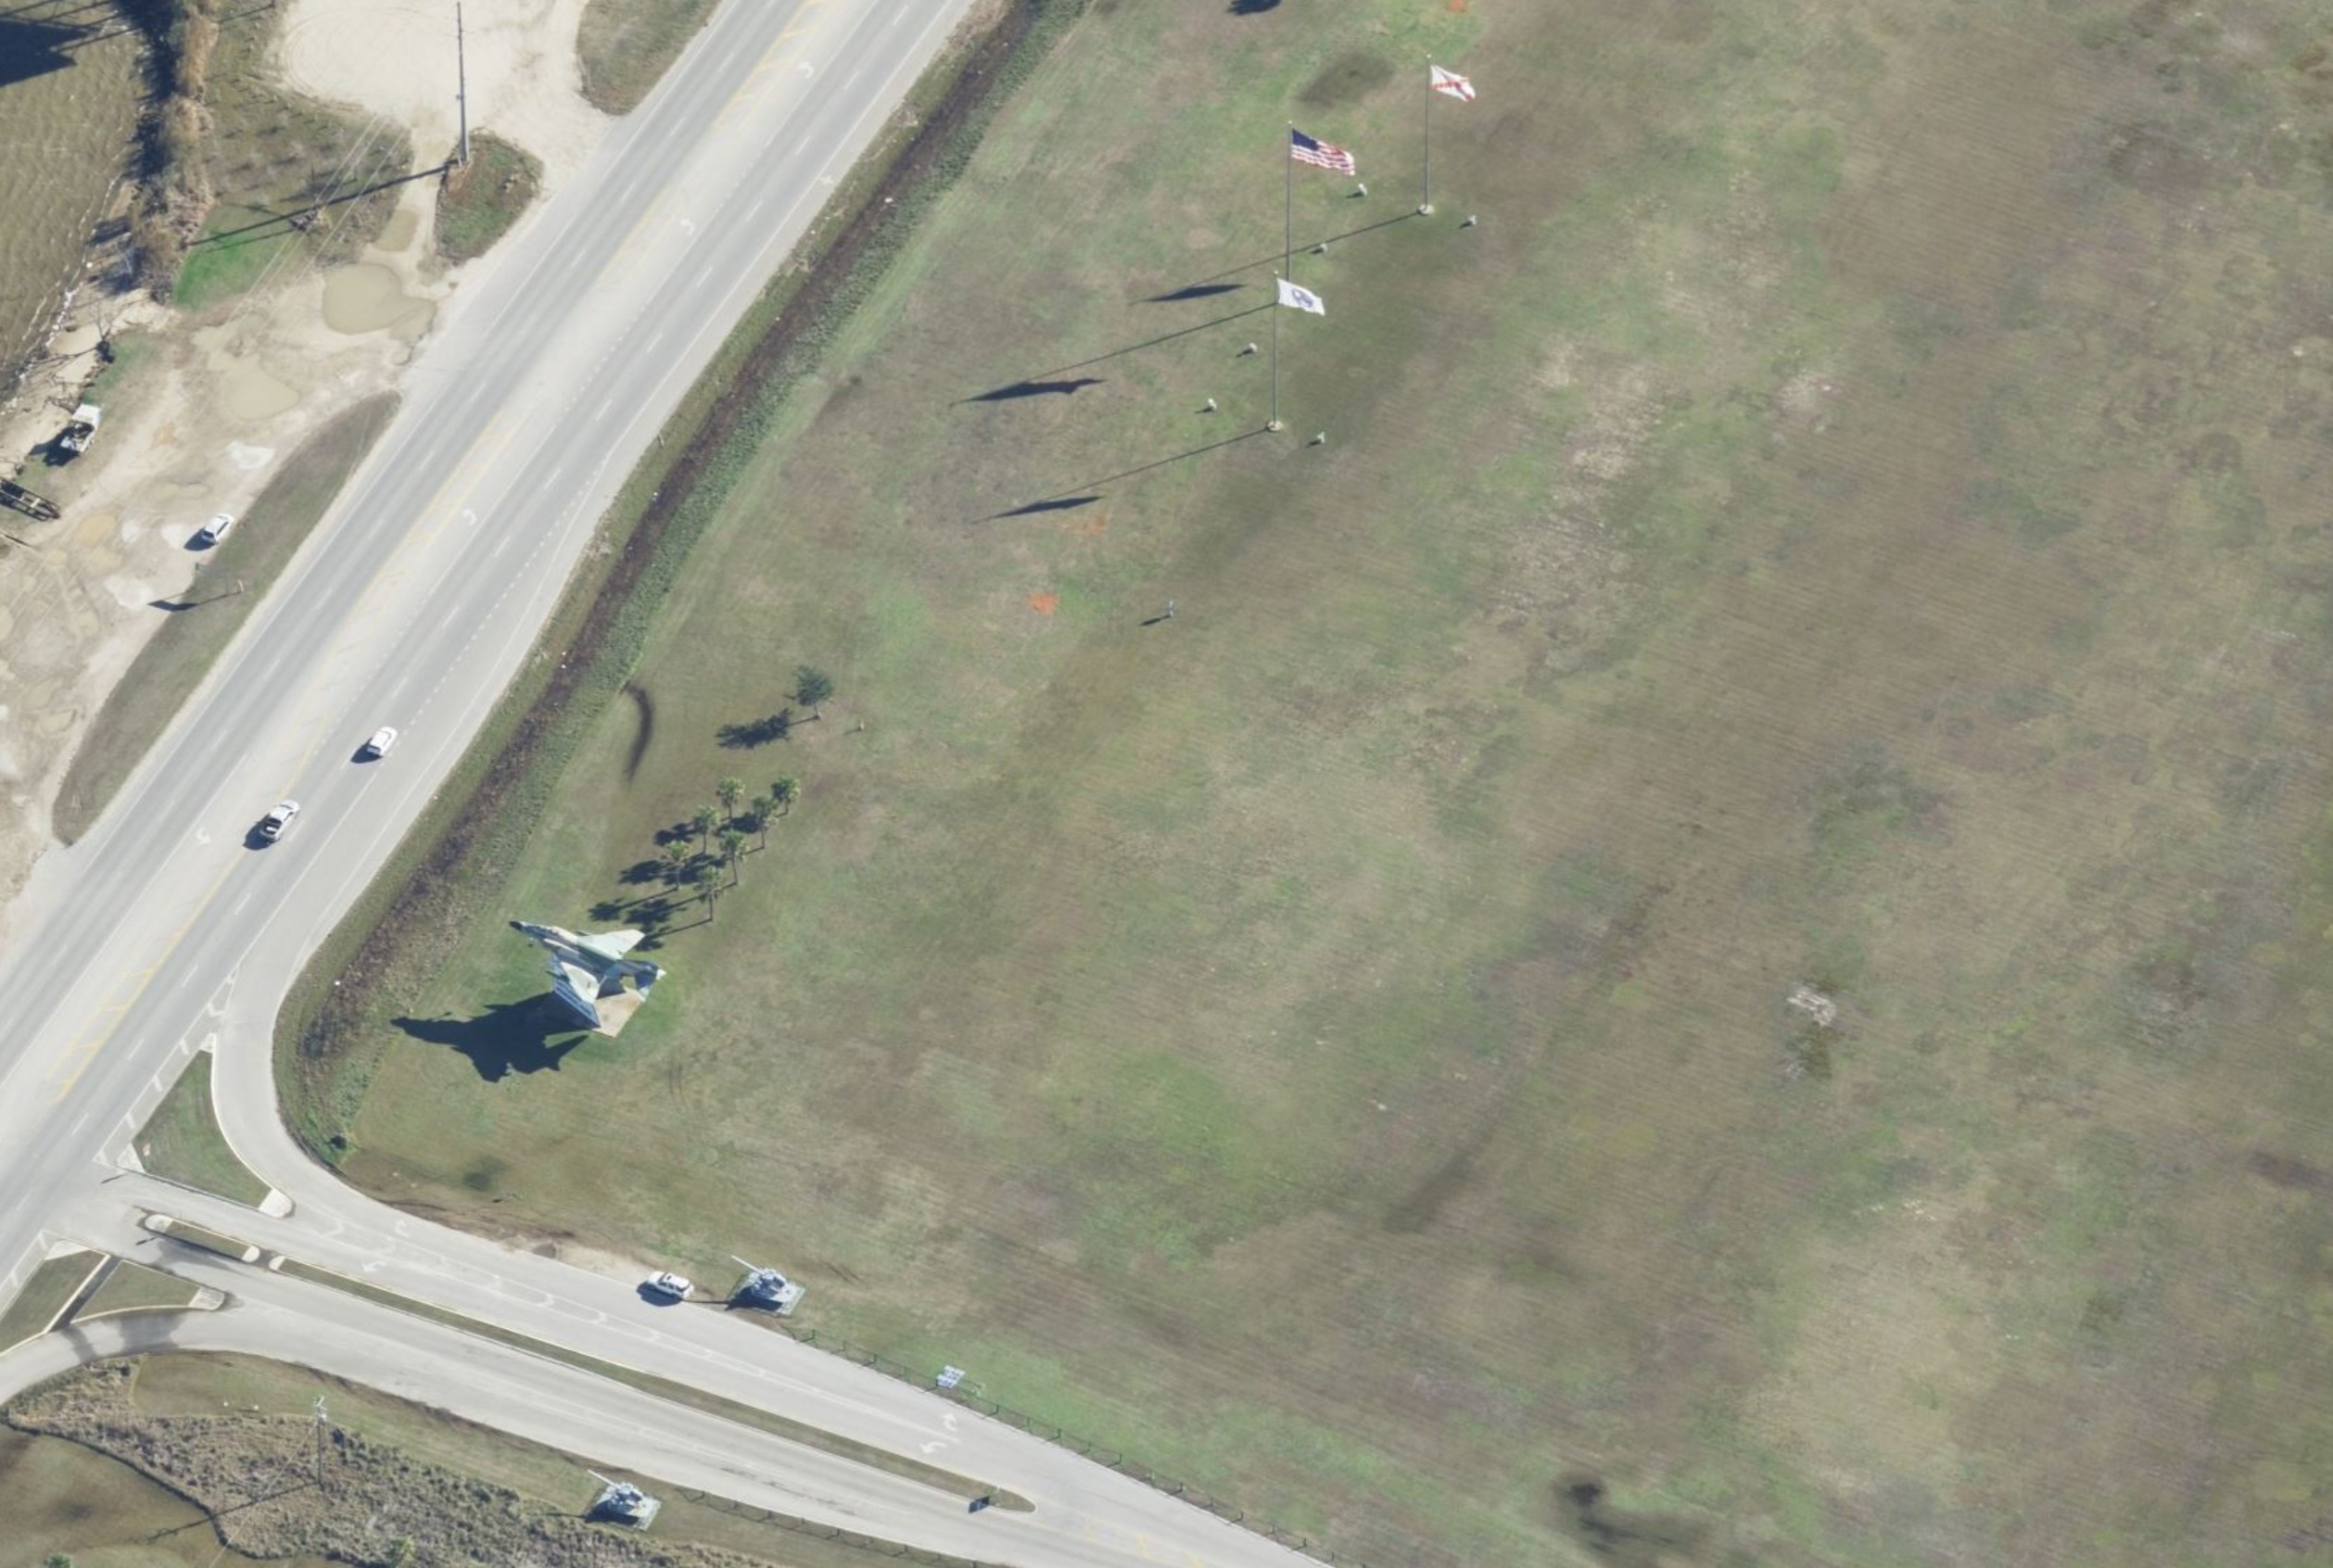F4: (508, 919, 667, 1006)
